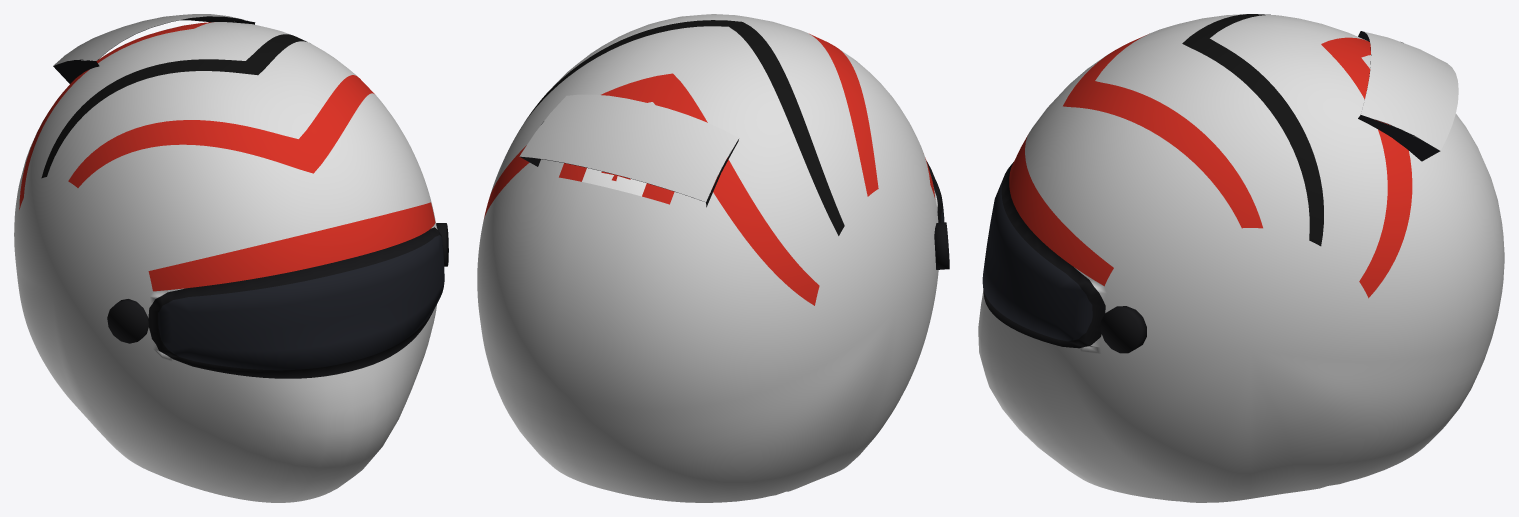
The model's file is STR.glb.
3 views of the same model, side by side, from view 1: azimuth 30°, elevation 25°; view 2: azimuth 150°, elevation 25°; view 3: azimuth 270°, elevation 25° (orthographic). The views are drawn at different scales.
Parts seen in each view (by area): view 1: helmet; view 2: helmet; view 3: helmet.
Boxes of the visible parts, x1,y1,x2,y2 form: helmet: [14, 14, 448, 502]; helmet: [477, 14, 949, 502]; helmet: [978, 14, 1504, 502].
Size of the model in its own units: 0.256 by 0.2772 by 0.3111.
